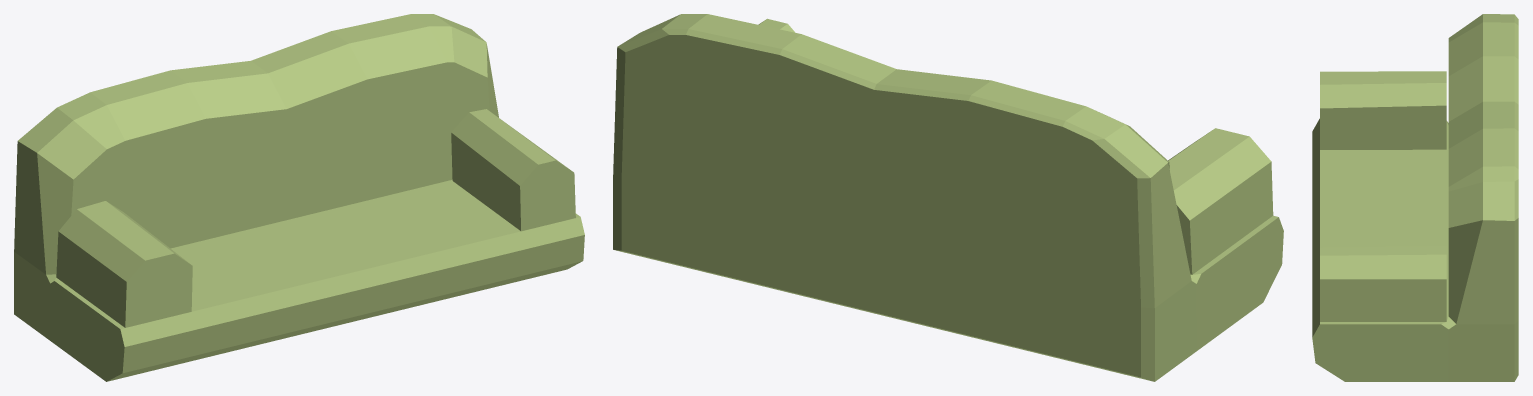
The model's file is SOFA.fbx.
3 renders of one model, left to right at view 1: azimuth 30°, elevation 25°; view 2: azimuth 150°, elevation 25°; view 3: azimuth 270°, elevation 25°, orthographic. The views are drawn at different scales.
Parts seen in each view (by area): view 1: Plane.008; view 2: Plane.008; view 3: Plane.008.
Boxes of the visible parts, x1=… form: Plane.008: x1=14, y1=14, x2=584, y2=381; Plane.008: x1=613, y1=14, x2=1283, y2=381; Plane.008: x1=1312, y1=14, x2=1518, y2=381.
Bounding box in the file's own units: 1402 × 598 × 592.
